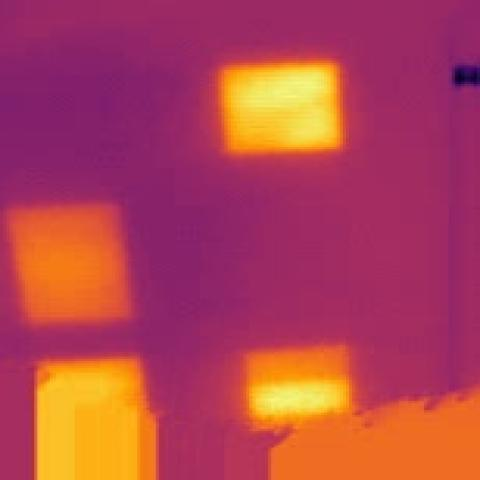fault: (0, 197, 154, 329), (33, 351, 160, 480), (206, 55, 354, 160), (236, 337, 366, 428)
